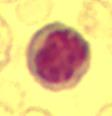lymphocyte: (26, 19, 94, 91)
